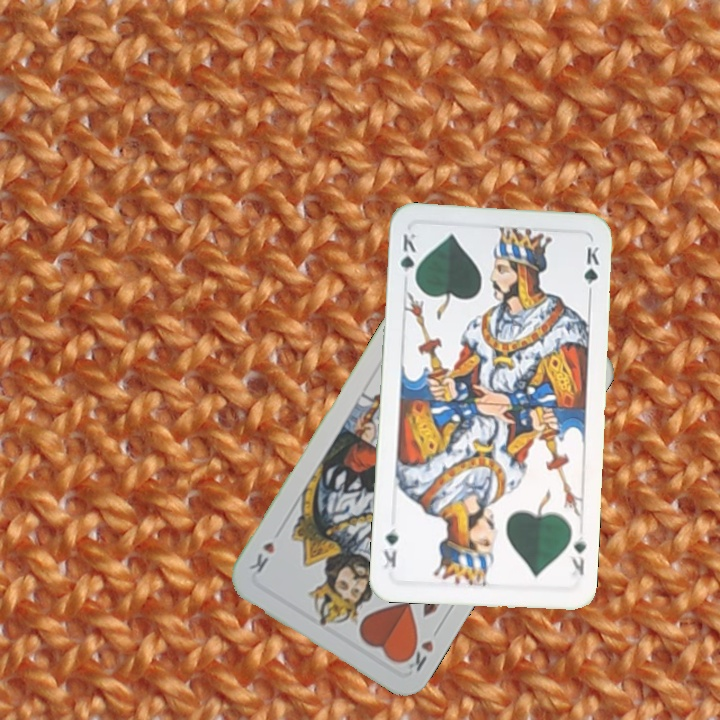GK: (397, 229, 419, 286), (566, 532, 589, 577)
HK: (399, 630, 437, 675)
